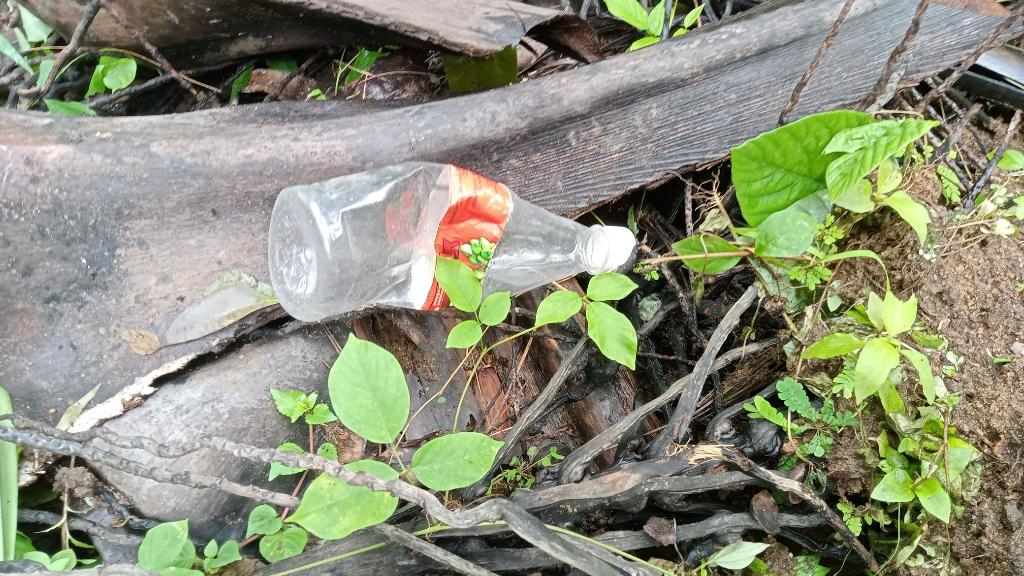garbage: (255, 154, 660, 349)
